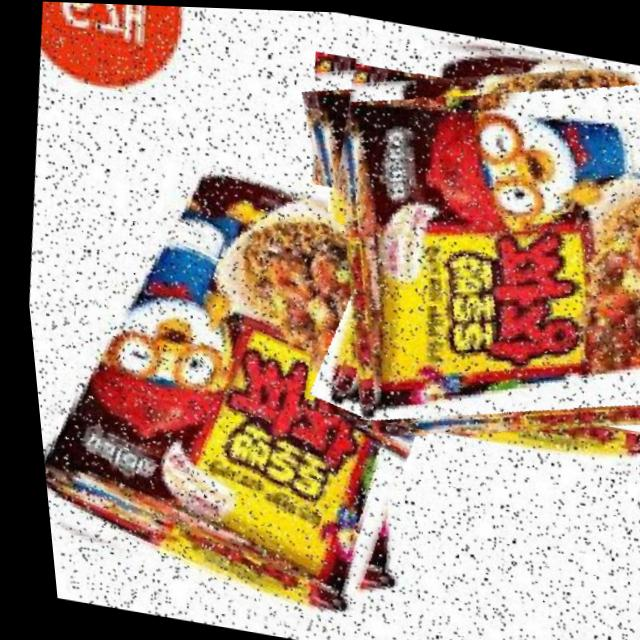Miscellaneous: (10, 136, 466, 640), (262, 11, 640, 467)
